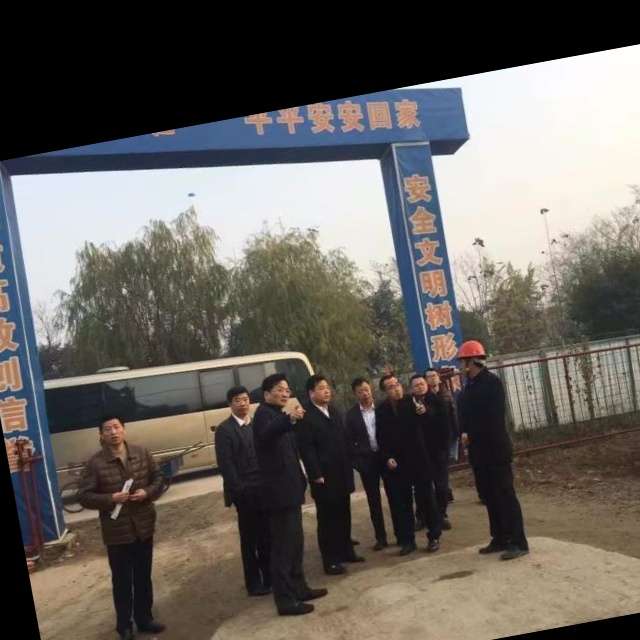Con_Casco: (455, 338, 491, 379)
Sin_Casco_Mascarrilla: (98, 410, 131, 448), (225, 383, 255, 419)
